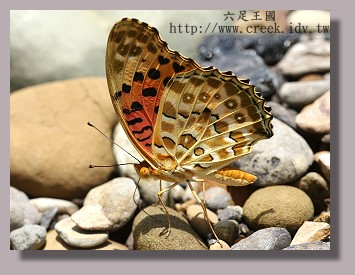Argyreus hyperbius: (80, 11, 275, 249)
butterfly: (82, 13, 277, 251)
